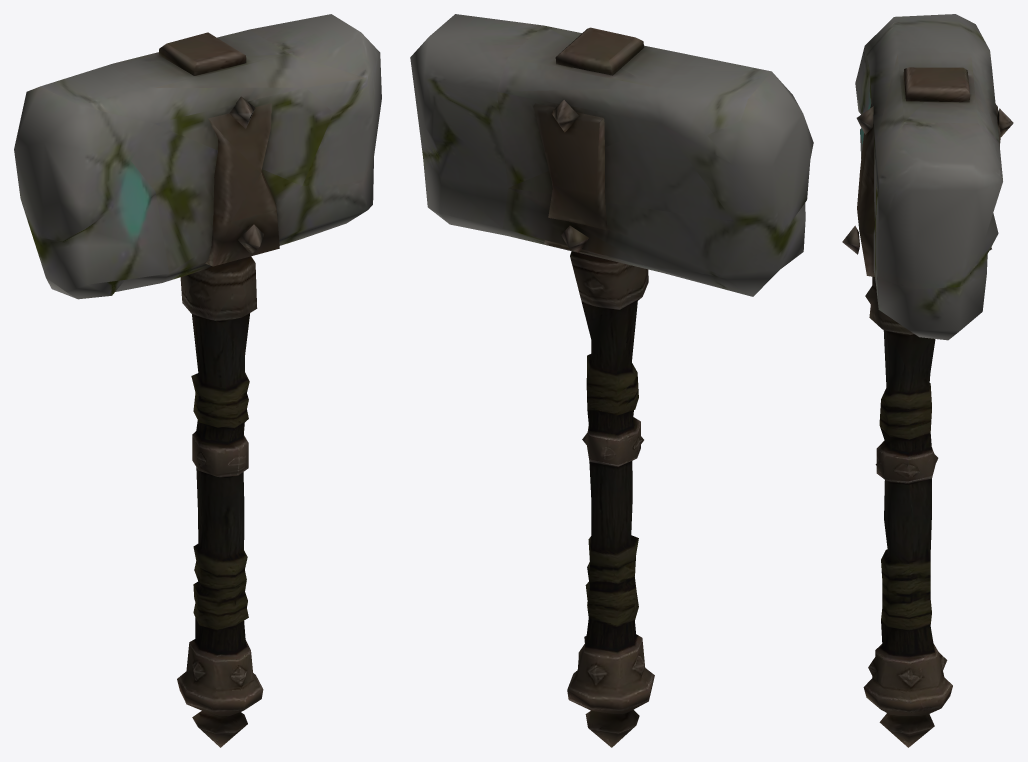
Rendered from balgath_barrowmaul_hammer.glb.
3 renders of one model, left to right at view 1: azimuth 30°, elevation 25°; view 2: azimuth 150°, elevation 25°; view 3: azimuth 270°, elevation 25°, orthographic. The views are drawn at different scales.
Visible parts, largest first — view 1: tripo_node_162af9c0-3eb2-4ba7-a861-db26fc8fc3da; view 2: tripo_node_162af9c0-3eb2-4ba7-a861-db26fc8fc3da; view 3: tripo_node_162af9c0-3eb2-4ba7-a861-db26fc8fc3da.
Boxes of the visible parts, left/top/right/bottom form: tripo_node_162af9c0-3eb2-4ba7-a861-db26fc8fc3da: left=14, top=14, right=381, bottom=747; tripo_node_162af9c0-3eb2-4ba7-a861-db26fc8fc3da: left=410, top=14, right=813, bottom=747; tripo_node_162af9c0-3eb2-4ba7-a861-db26fc8fc3da: left=842, top=14, right=1013, bottom=747.
Bounding box in the file's own units: 0.7608 × 1.45 × 0.3372.
1 material, 1 textured.
